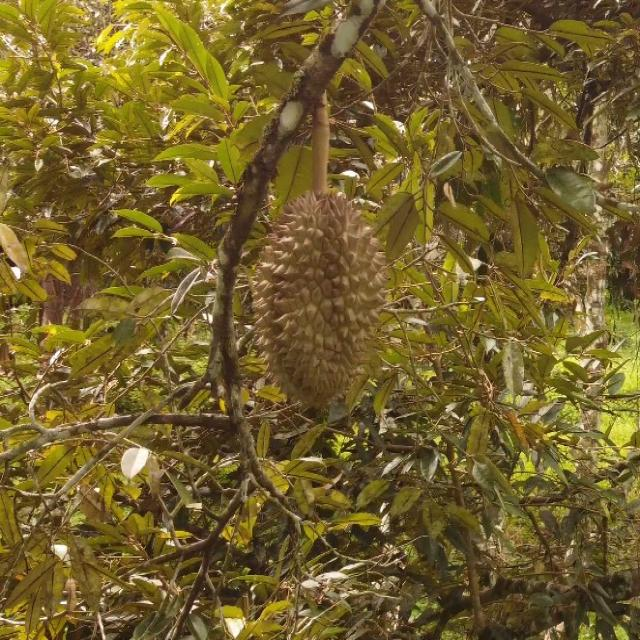mature: (251, 190, 388, 414)
